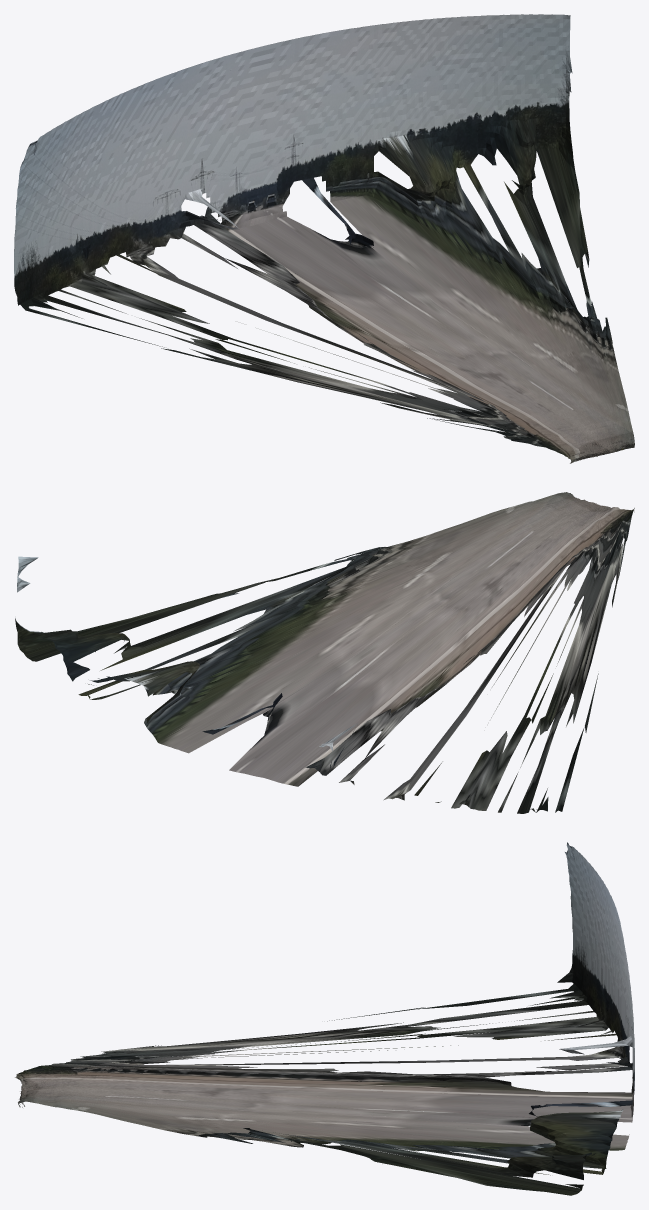
3 renders of one model, top to bottom at view 1: azimuth 30°, elevation 25°; view 2: azimuth 150°, elevation 25°; view 3: azimuth 270°, elevation 25°, orthographic. The views are drawn at different scales.
Parts seen in each view (by area): view 1: defaultobject; view 2: defaultobject; view 3: defaultobject.
Part boxes in pixels (bbox=[...]): defaultobject: bbox=[14, 14, 634, 463]; defaultobject: bbox=[15, 492, 634, 813]; defaultobject: bbox=[15, 842, 634, 1195].
Size of the model in its own units: 41.12 by 12.96 by 44.64.
Materials: 1 (1 with a texture image).
